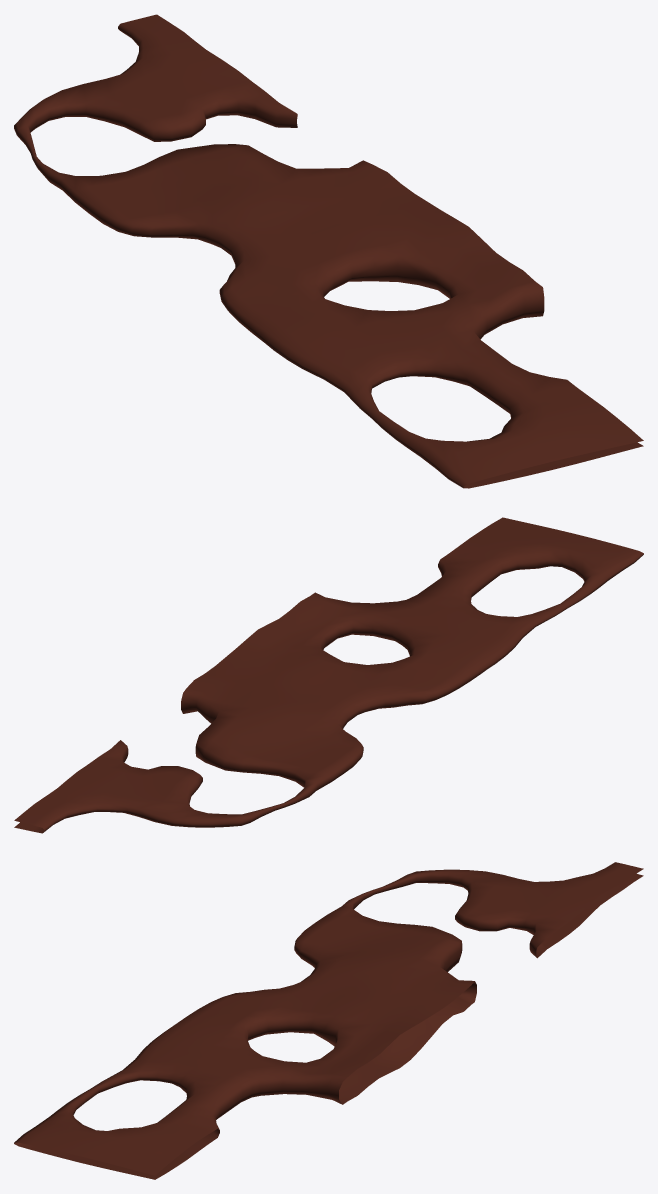
The model's file is MountainRoof.fbx.
3 renders of one model, top to bottom at view 1: azimuth 30°, elevation 25°; view 2: azimuth 150°, elevation 25°; view 3: azimuth 330°, elevation 25°, orthographic. The views are drawn at different scales.
Parts seen in each view (by area): view 1: MountainRoof; view 2: MountainRoof; view 3: MountainRoof.
Part boxes in pixels (left/top/right/bottom): MountainRoof: left=14, top=14, right=643, bottom=488; MountainRoof: left=14, top=517, right=643, bottom=833; MountainRoof: left=14, top=862, right=643, bottom=1179.
Bounding box in the file's own units: 106 × 16.96 × 402.
